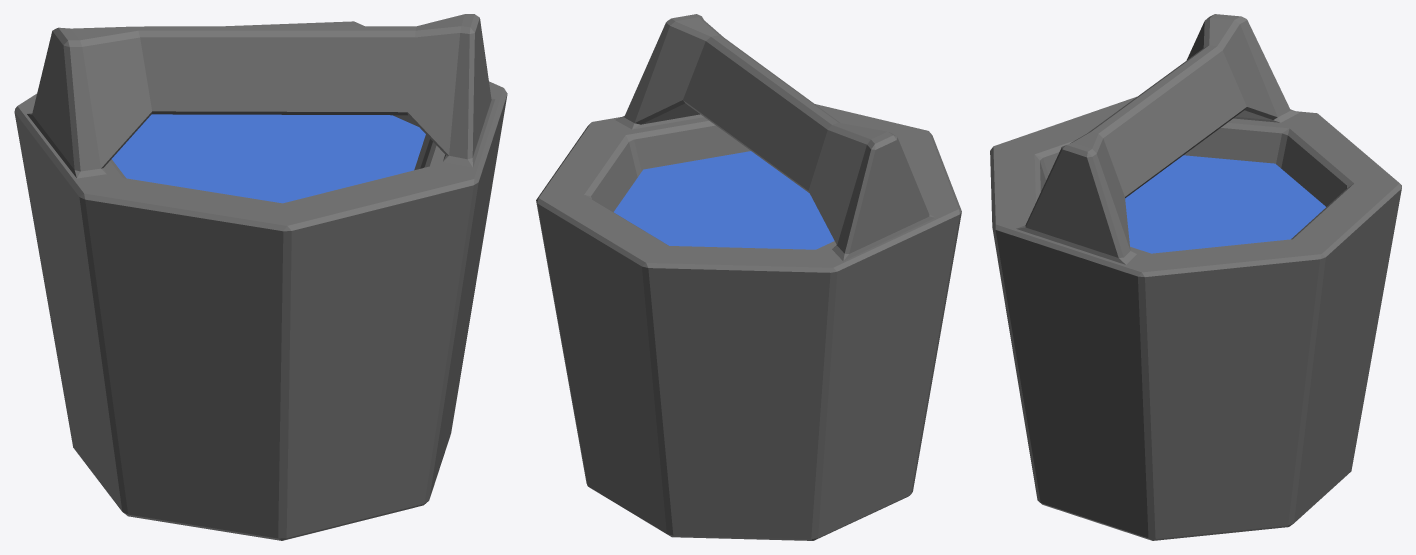
Rendered from bs-oven-water.fbx.
3 renders of one model, left to right at view 1: azimuth 30°, elevation 25°; view 2: azimuth 150°, elevation 25°; view 3: azimuth 270°, elevation 25°, orthographic. The views are drawn at different scales.
Parts seen in each view (by area): view 1: Cylinder.017; view 2: Cylinder.017; view 3: Cylinder.017.
Boxes of the visible parts, <box> form: Cylinder.017: <box>14,14,507,540</box>; Cylinder.017: <box>536,14,961,540</box>; Cylinder.017: <box>990,14,1401,540</box>.
Size of the model in its own units: 63.73 by 64.3 by 62.31.
